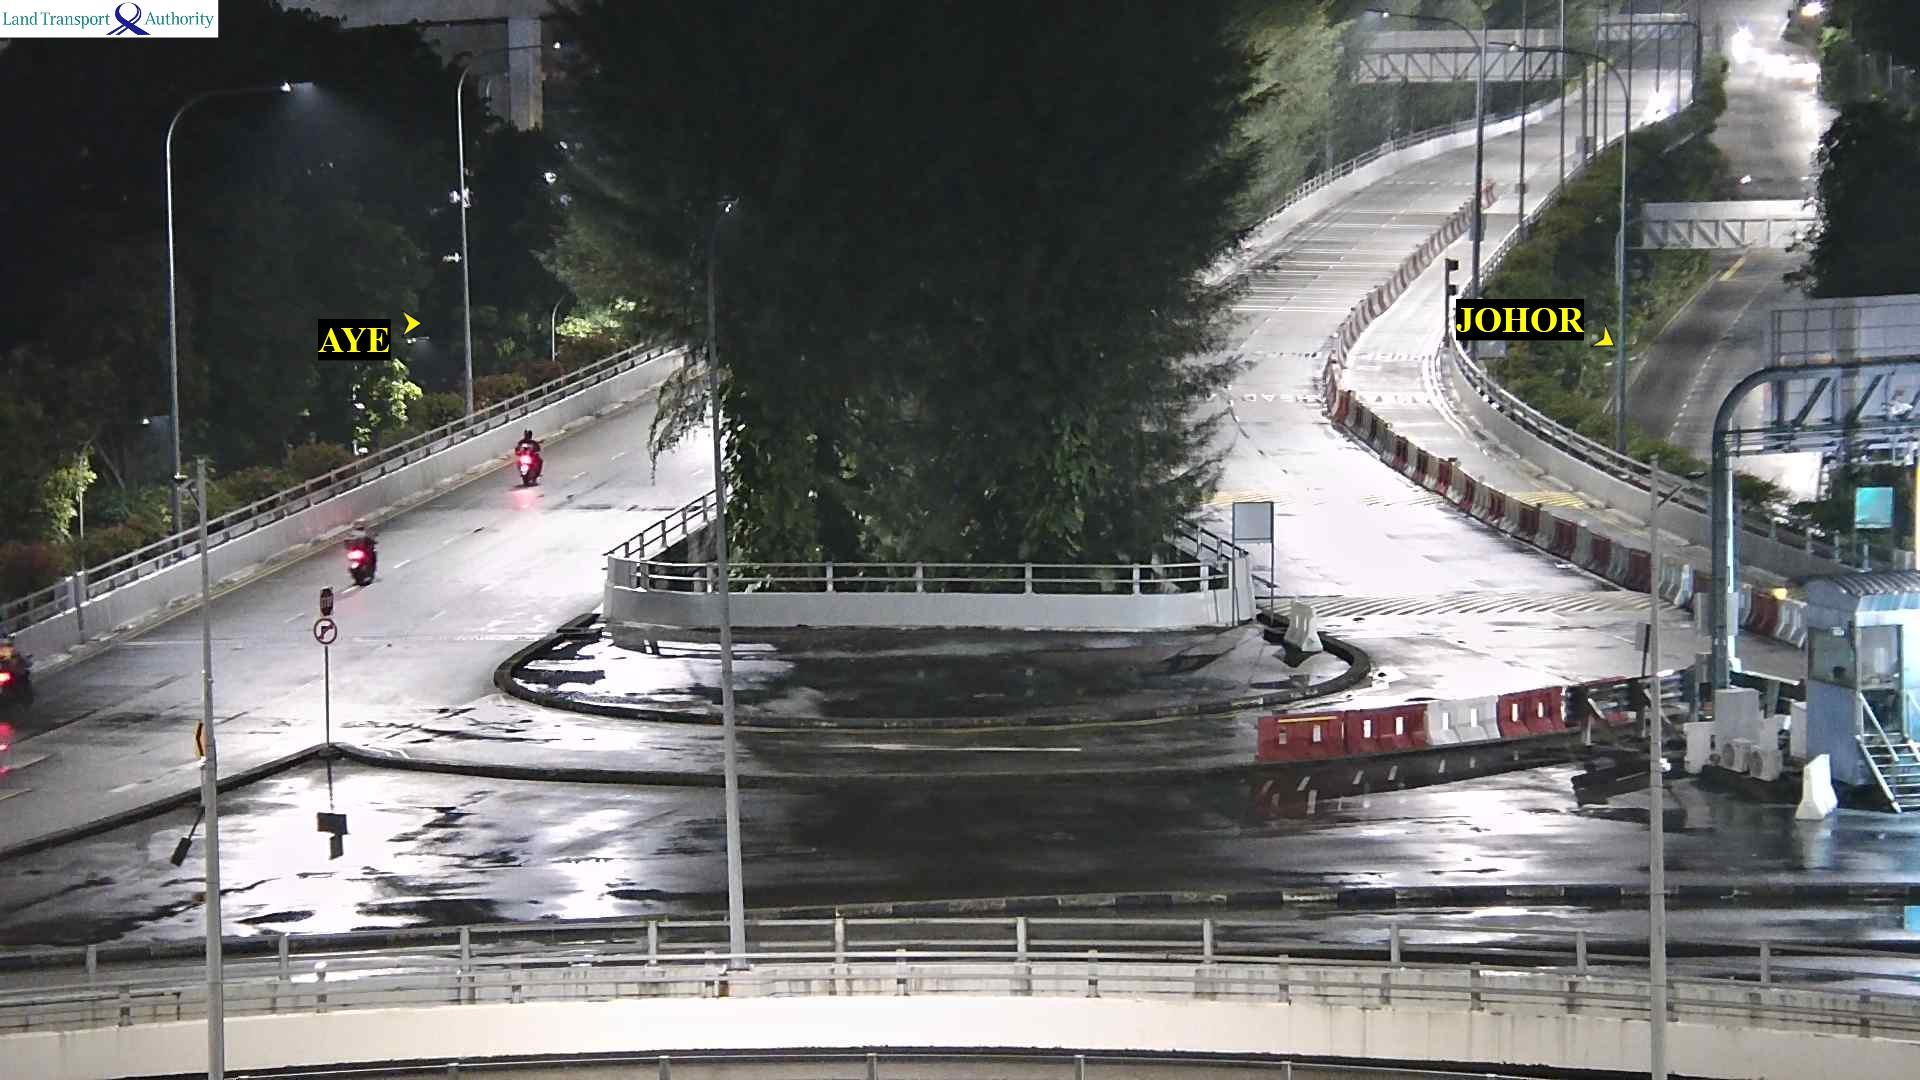vehicle-secondlink-singapore: (0, 645, 38, 702), (510, 433, 549, 484), (344, 534, 375, 583)
